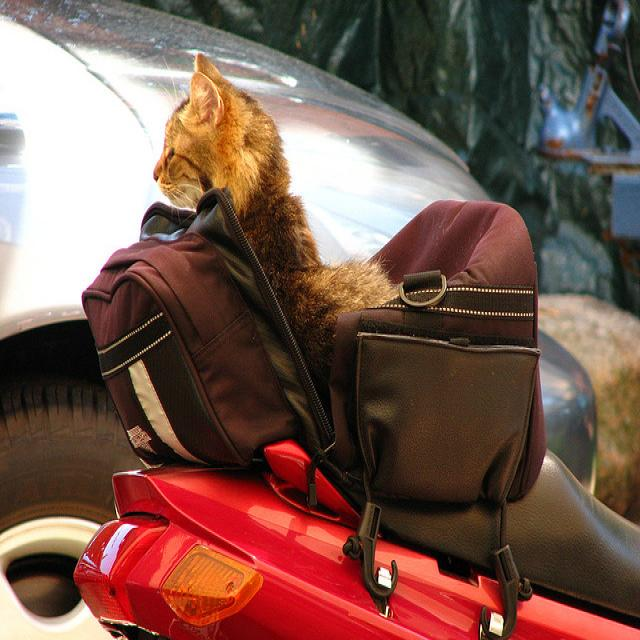motor: (68, 431, 640, 640)
